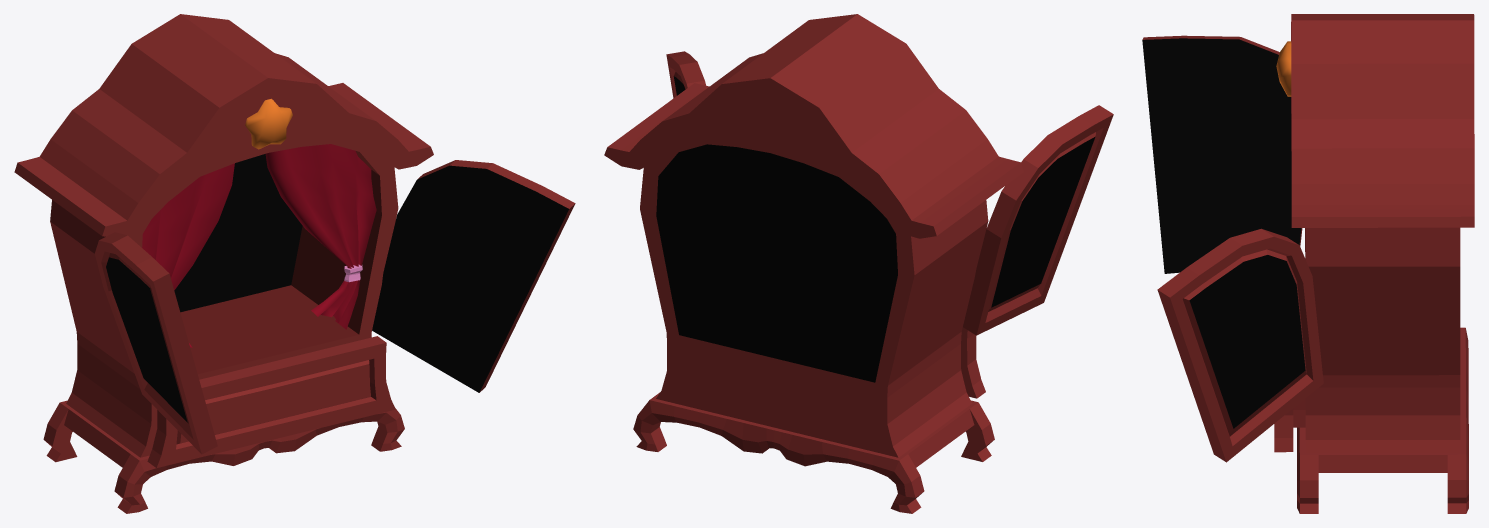
Rendered from House_low.fbx.
3 views of the same model, side by side, from view 1: azimuth 30°, elevation 25°; view 2: azimuth 150°, elevation 25°; view 3: azimuth 270°, elevation 25° (orthographic). The views are drawn at different scales.
Visible parts, largest first — view 1: House_low; view 2: House_low; view 3: House_low.
Boxes of the visible parts, x1,y1,x2,y2 form: House_low: [14, 14, 575, 513]; House_low: [604, 14, 1113, 513]; House_low: [1142, 14, 1474, 513].
Size of the model in its own units: 570 by 508 by 361.
